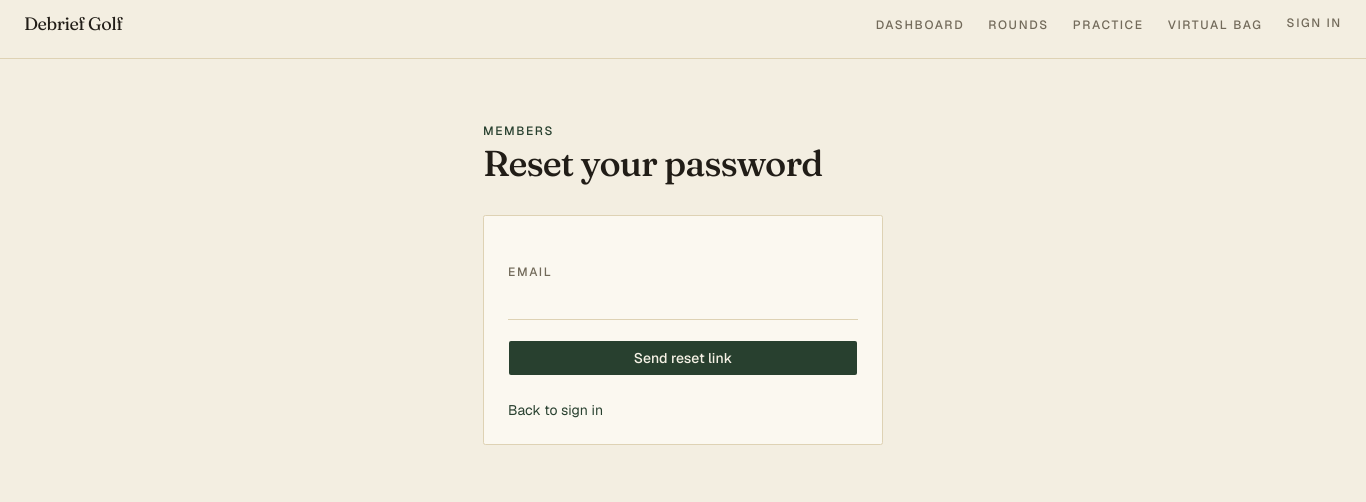
Test: ForgotPasswordPage › surfaces an error message on an unexpected failure
Type "jane@example.com" into the field labelled "Email" at (683,302), box [508,284,858,320]
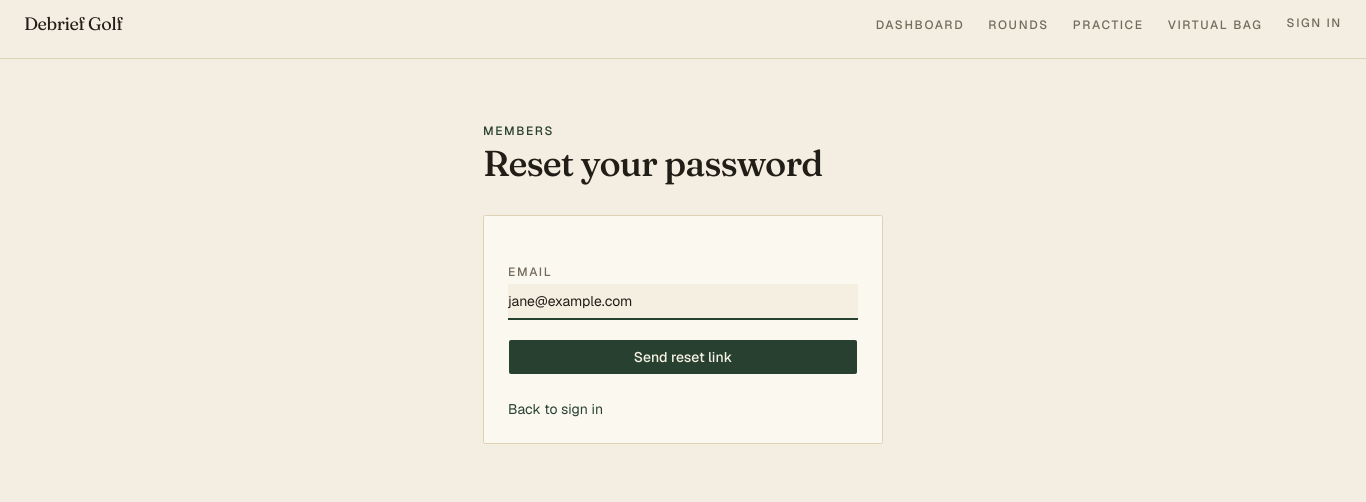
Click the button "Send reset link" at (683,357), box [508,339,858,375]
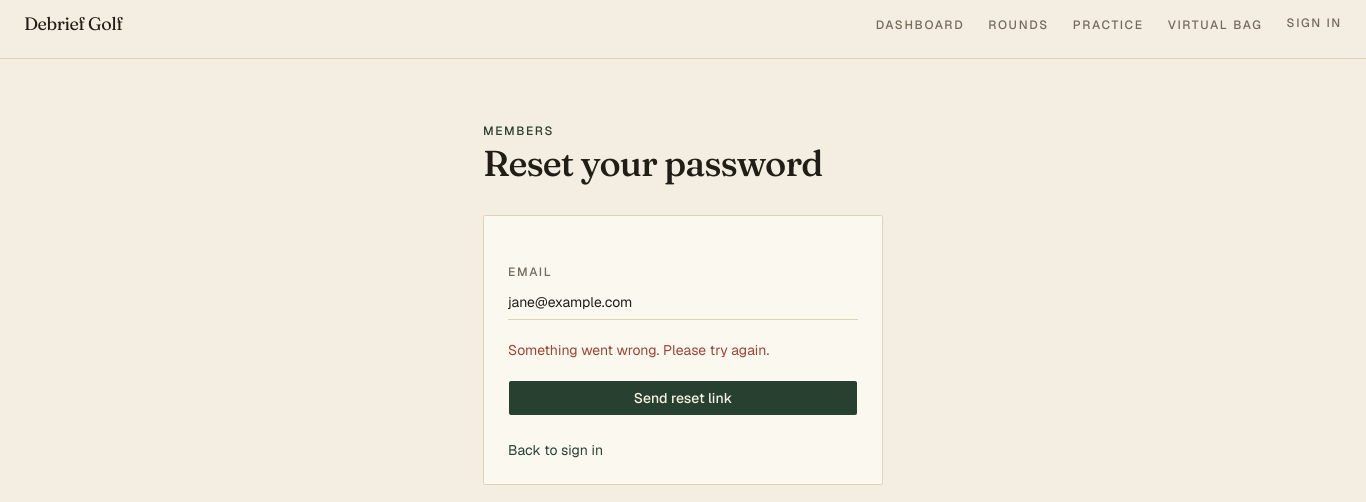
Expected: the message shows "Something went wrong", [508,341,769,359]
